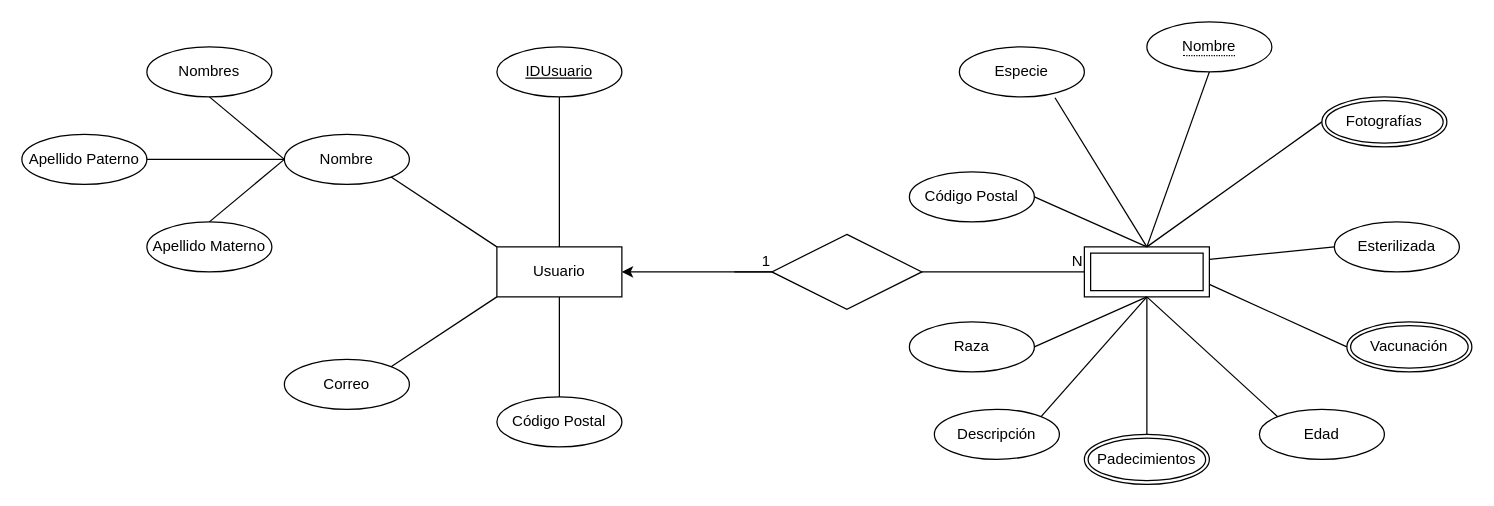
This 1494x506 diagram has some shape labels left out. The centre of each missing label's shape, as x and y in pixels:
Entity: the point at 1146,271
Registra: the point at 846,271
